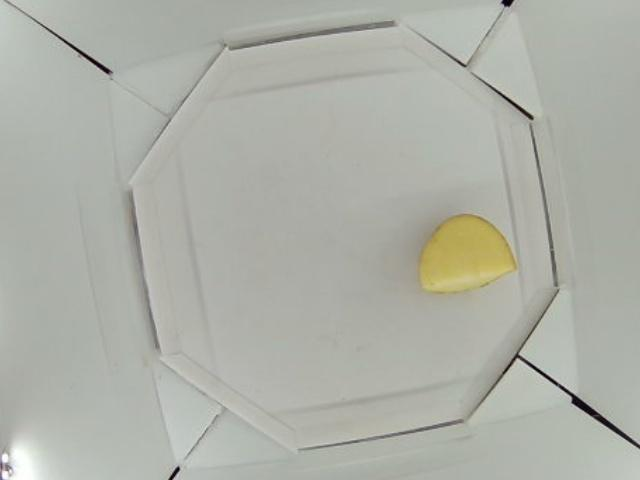Potato: (421, 214, 515, 292)
